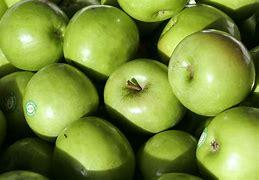apple: (165, 32, 259, 111), (52, 3, 137, 73), (50, 117, 141, 180), (16, 65, 102, 129), (102, 60, 184, 121), (116, 0, 241, 40), (202, 109, 259, 180), (0, 0, 62, 65), (134, 129, 202, 176)
